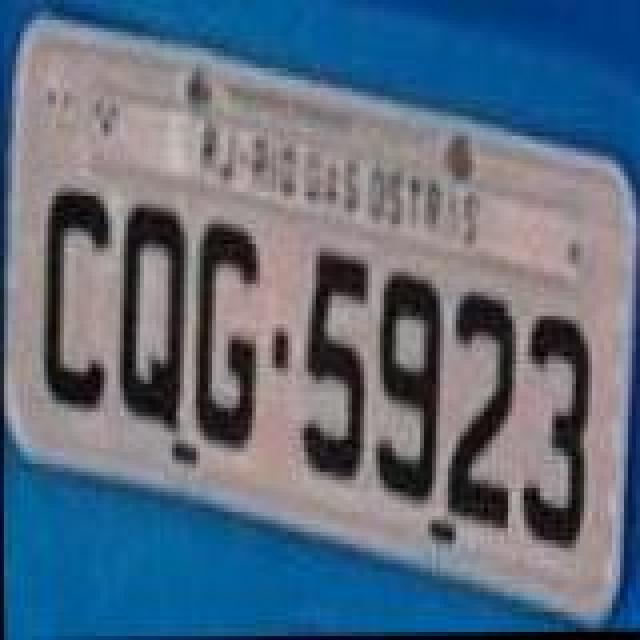2: (446, 288, 518, 532)
3: (518, 312, 590, 556)
5: (298, 250, 370, 486)
9: (374, 270, 446, 506)
C: (38, 188, 110, 412)
G: (192, 224, 260, 452)
Q: (118, 204, 190, 432)
